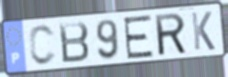9: (96, 18, 120, 62)
B: (57, 20, 91, 65)
C: (28, 23, 59, 68)
E: (122, 14, 156, 61)
K: (189, 10, 217, 52)
R: (153, 11, 189, 58)
